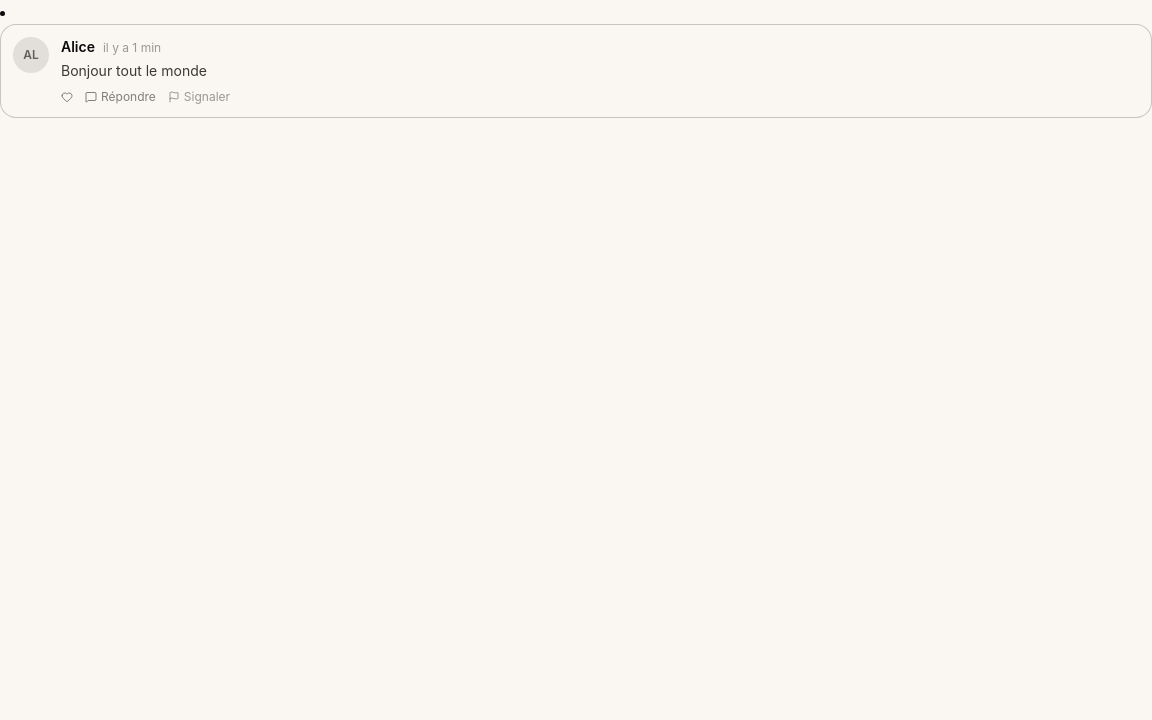
CommentItem › closes the ReportModal on Annuler
Click the button "Signaler": (199, 97) [168,89,230,105]
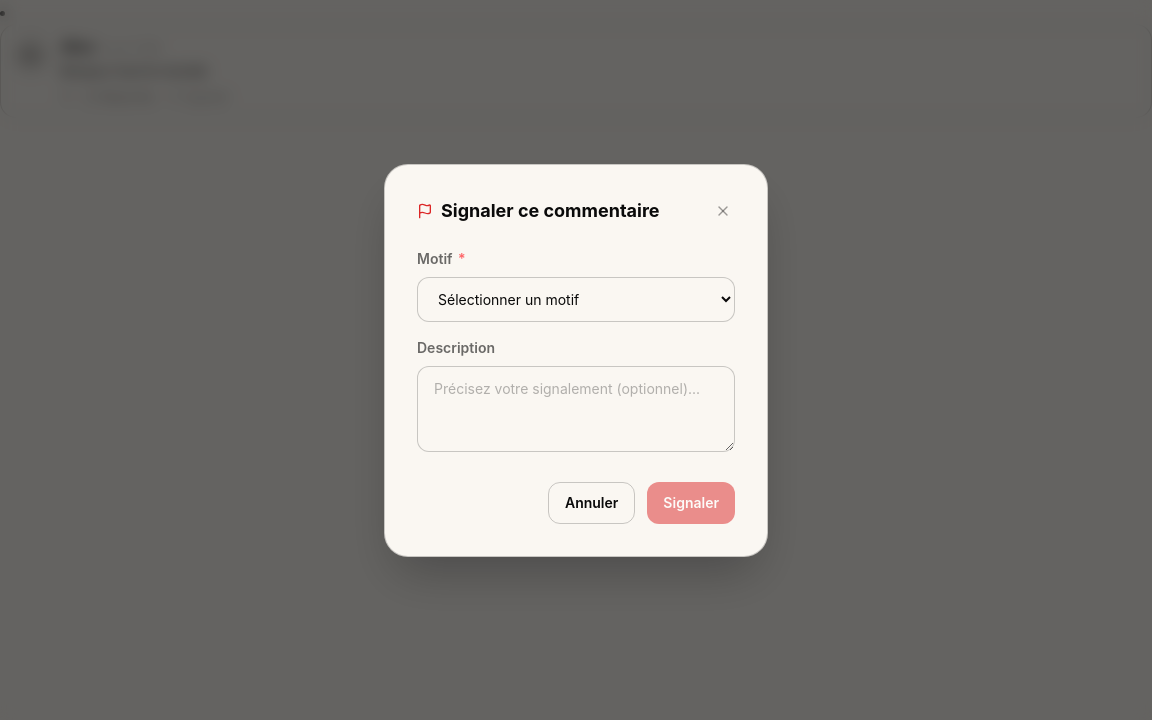
Check: the heading "Signaler ce commentaire" is shown, box [441,196,660,224]
Click the button "Annuler": (592, 502) [548,482,635,524]
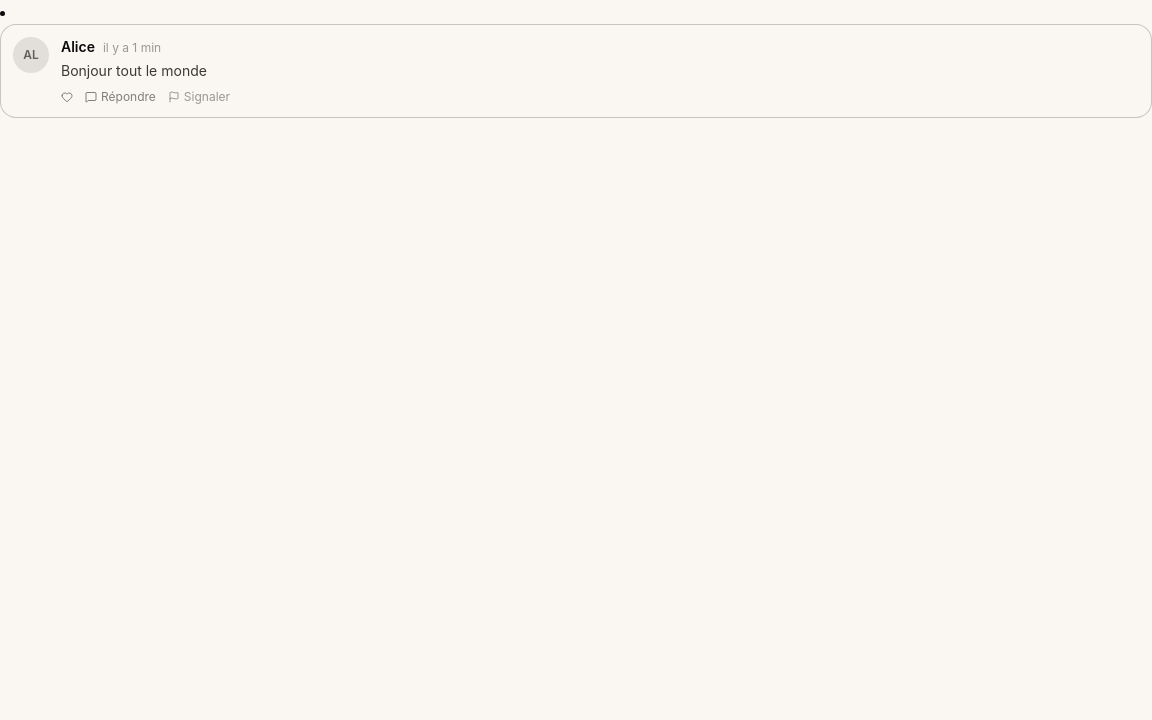
Check: the heading "Signaler ce commentaire" is gone
